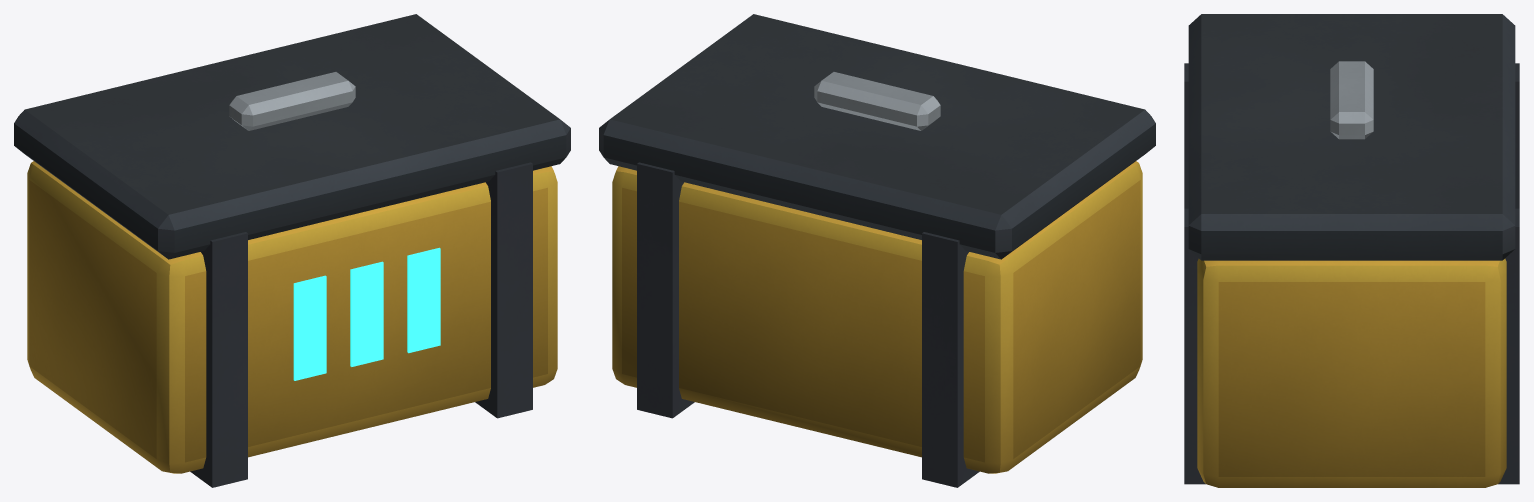
3 views of the same model, side by side, from view 1: azimuth 30°, elevation 25°; view 2: azimuth 150°, elevation 25°; view 3: azimuth 270°, elevation 25° (orthographic). The views are drawn at different scales.
Parts seen in each view (by area): view 1: ammo-pack_metal, ammo-pack_glow; view 2: ammo-pack_metal; view 3: ammo-pack_metal.
Boxes of the visible parts, x1,y1,x2,y2 form: ammo-pack_metal: (14,14,570,487); ammo-pack_glow: (293,247,440,380); ammo-pack_metal: (599,14,1155,487); ammo-pack_metal: (1184,14,1519,487).
Bounding box in the file's own units: 0.58 × 0.405 × 0.39.
Materials: 2 (1 with a texture image).
